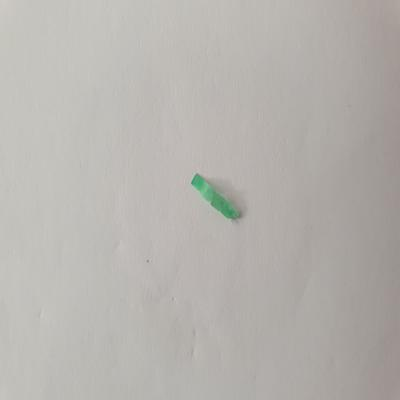thread: (186, 172, 246, 225)
